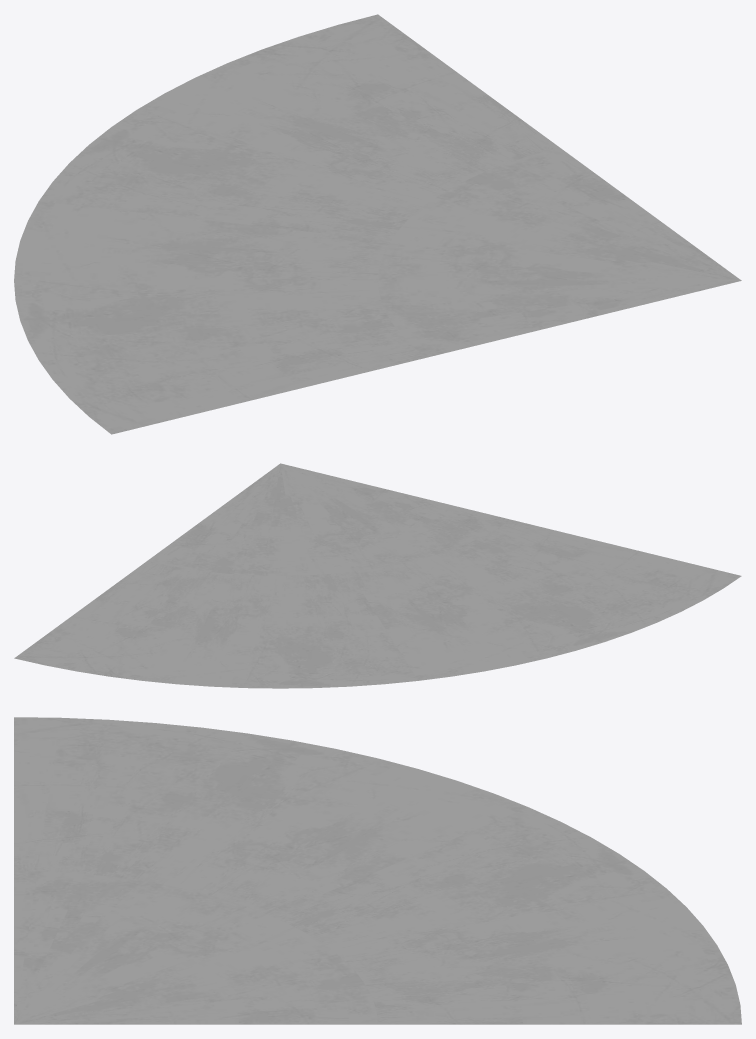
The model's file is platform_simple_curve.gltf.
3 renders of one model, top to bottom at view 1: azimuth 30°, elevation 25°; view 2: azimuth 150°, elevation 25°; view 3: azimuth 270°, elevation 25°, orthographic. The views are drawn at different scales.
Visible parts, largest first — view 1: Platform_Simple_Curve; view 2: Platform_Simple_Curve; view 3: Platform_Simple_Curve.
Boxes of the visible parts, x1,y1,x2,y2 form: Platform_Simple_Curve: [14, 14, 741, 434]; Platform_Simple_Curve: [14, 463, 741, 688]; Platform_Simple_Curve: [14, 717, 741, 1024].
Size of the model in its own units: 4 by 0 by 4.
1 material, 1 textured.
